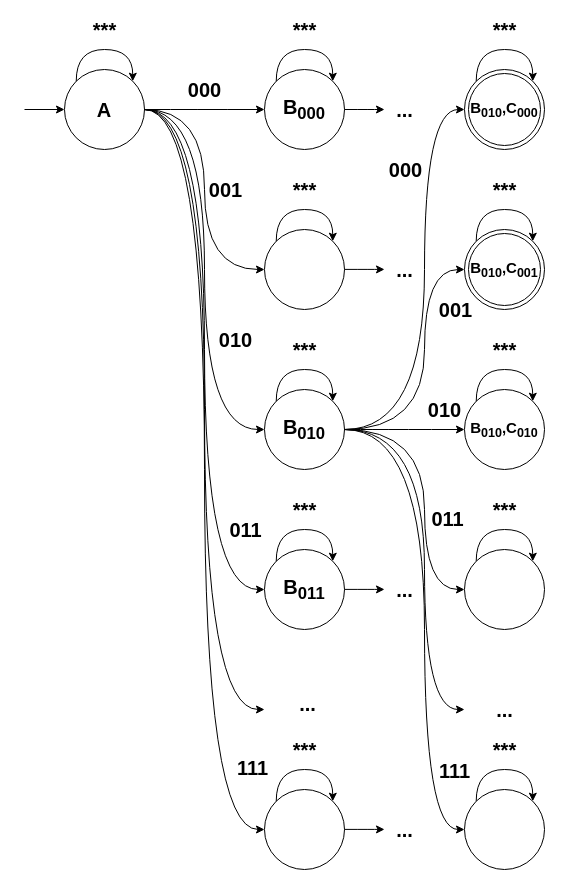
Image size: 562x887. Some labels were removed from this diagram. The shapes that lost their labels are listed below. From the top down, each one's box as (x1, y1, x2, y2) in pixels, then its label:
(264, 228, 344, 310): B 001
(464, 548, 544, 630): B 010 ,C 011
(264, 788, 344, 870): B 111
(464, 788, 544, 870): B 010 ,C 111
